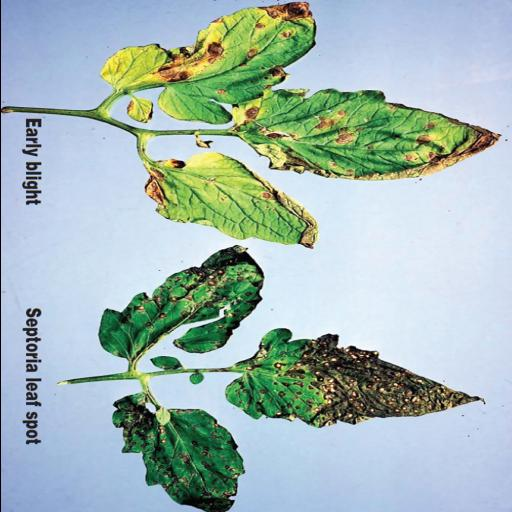Early Blight: (95, 0, 318, 125), (232, 90, 502, 180), (144, 152, 317, 252)
Septoria: (225, 327, 487, 428), (96, 246, 266, 362), (112, 394, 247, 512)
